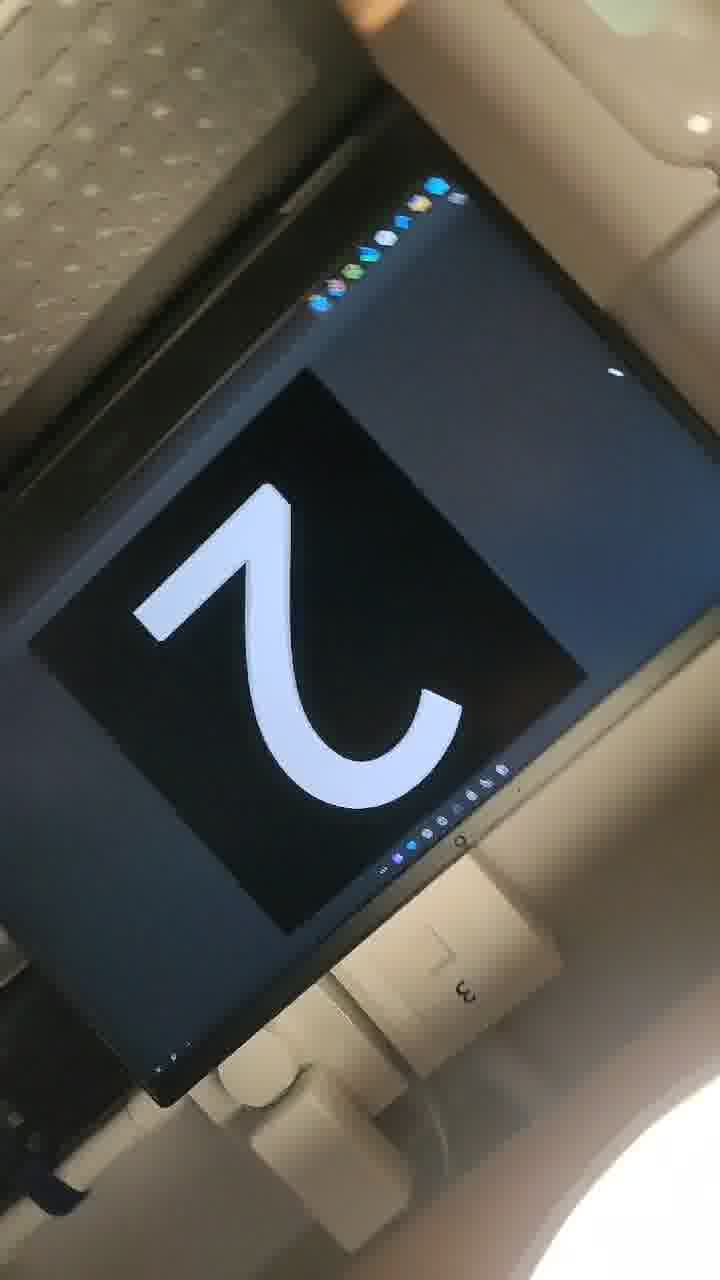two: (116, 441, 525, 876)
